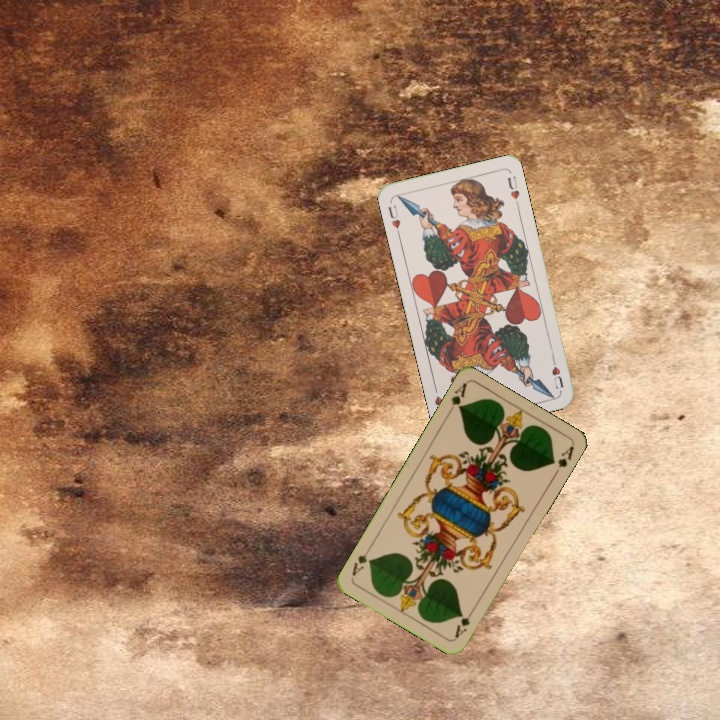GA: (450, 604, 477, 640), (444, 379, 469, 417)
HU: (548, 353, 566, 391), (384, 201, 403, 231)
